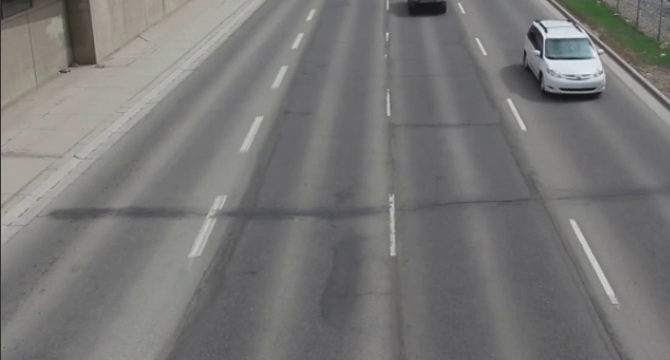car: (521, 19, 613, 99)
